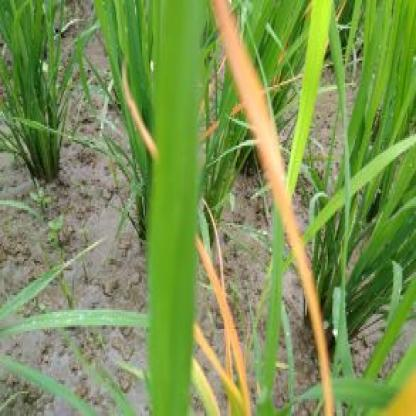Tungro: (245, 14, 328, 404)
